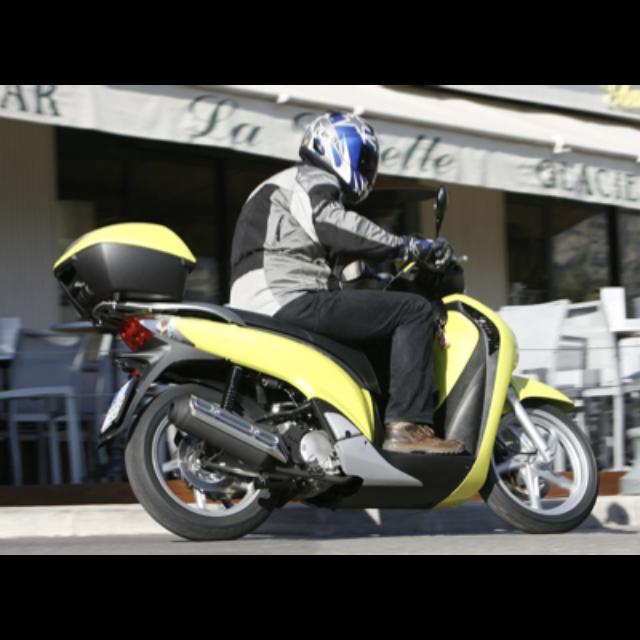With Helmet: (296, 104, 384, 206)
